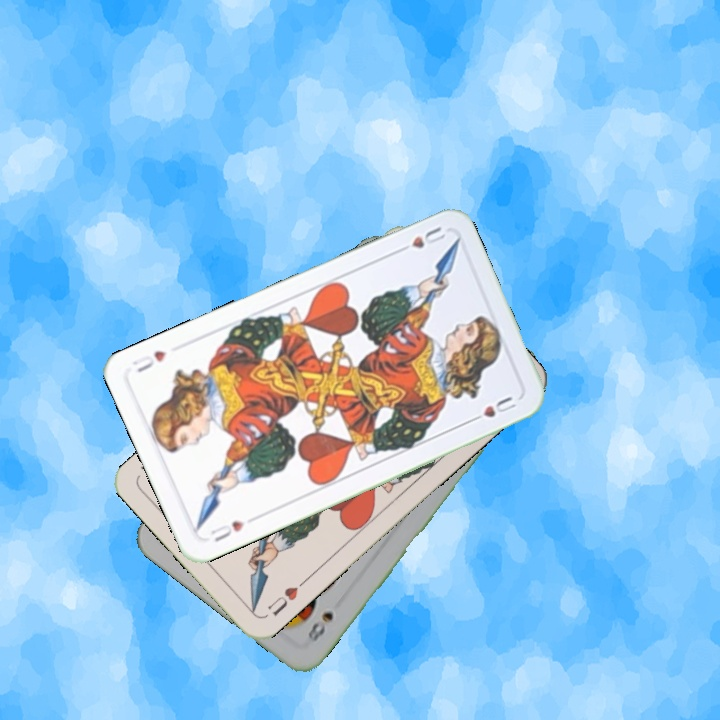HU: (263, 575, 309, 619), (392, 222, 448, 256), (206, 513, 258, 545)
S8: (303, 607, 336, 649)
